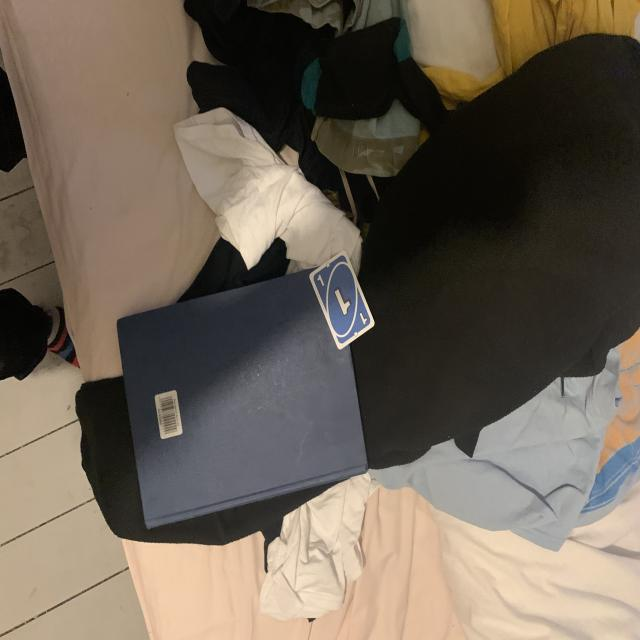lblue-1: (314, 273, 328, 289)
